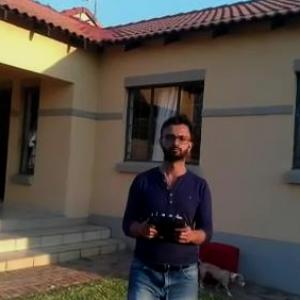follow: (118, 111, 217, 299)
null: (198, 257, 250, 299)
